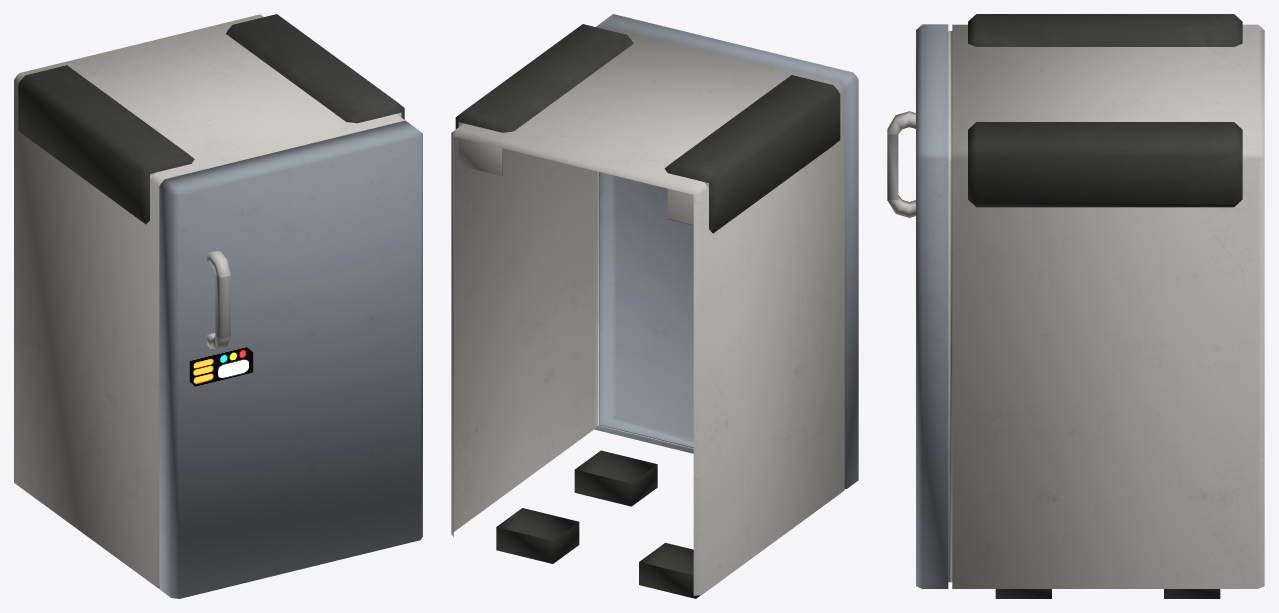
The model's file is Nevera_dor_text.fbx.
The picture shows the model from 3 angles, left to right: view 1: azimuth 30°, elevation 25°; view 2: azimuth 150°, elevation 25°; view 3: azimuth 270°, elevation 25°; orthographic projection. The views are drawn at different scales.
Visible parts, largest first — view 1: Nevera; view 2: Nevera; view 3: Nevera.
Part boxes in pixels (bbox=[...]): Nevera: bbox=[14, 14, 422, 598]; Nevera: bbox=[451, 14, 858, 598]; Nevera: bbox=[887, 14, 1264, 598].
Bounding box in the file's own units: 37.17 × 58.64 × 42.87.
1 material, 1 textured.
